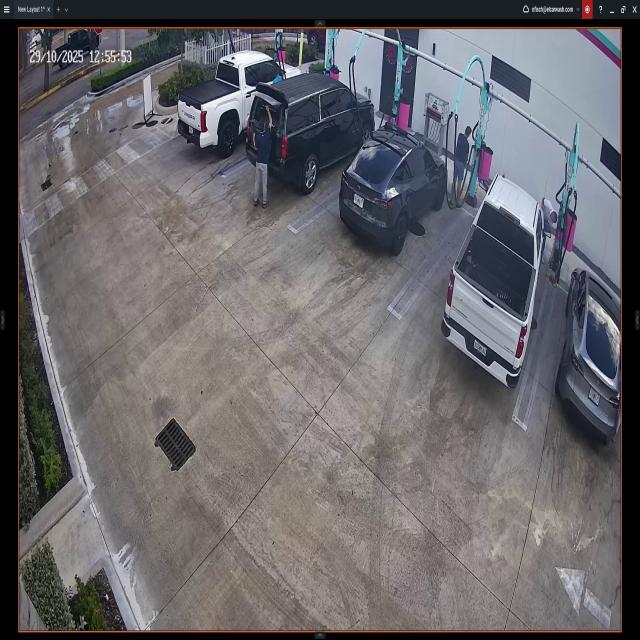Car: (442, 174, 541, 384), (249, 79, 374, 189), (342, 127, 446, 253), (176, 53, 300, 154), (560, 268, 620, 435)
